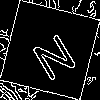N: (25, 25, 79, 82)
